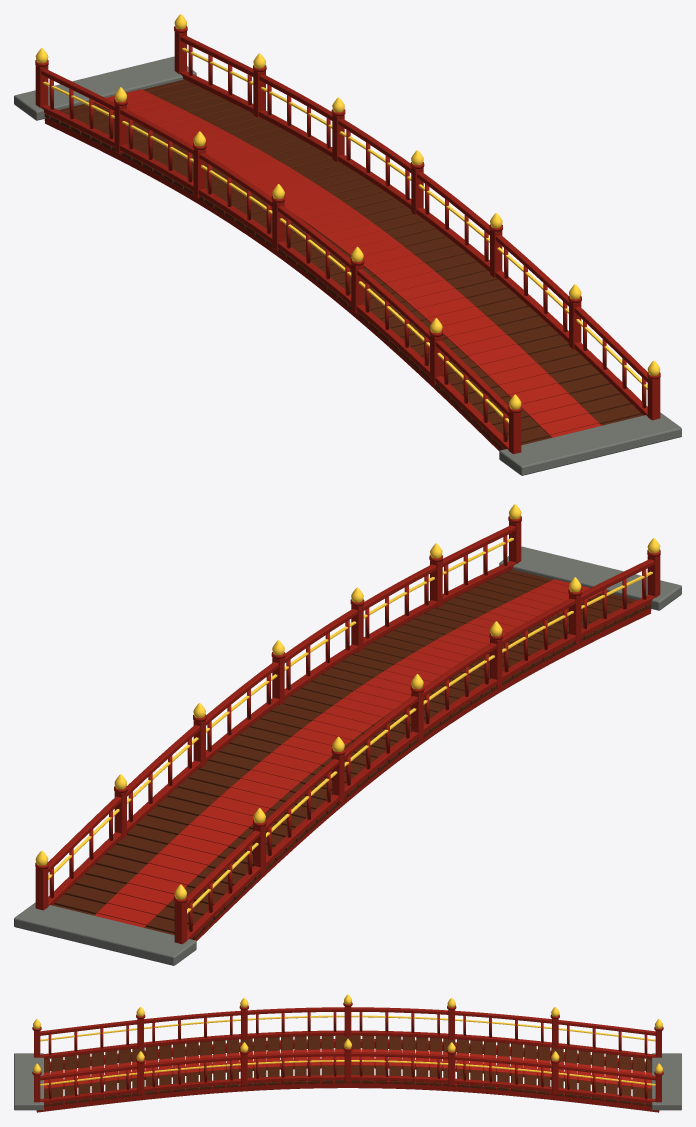
File: cau_kieu.glb
The picture shows the model from 3 angles, top to bottom: view 1: azimuth 30°, elevation 25°; view 2: azimuth 150°, elevation 25°; view 3: azimuth 270°, elevation 25°; orthographic projection. The views are drawn at different scales.
Parts seen in each view (by area): view 1: StoneStep_-1, StoneStep_1, Plank_1, Plank_5, Plank_2, Plank_6, Plank_7, Plank_4, Plank_3, Plank_14, Plank_13, Plank_12 (+11 smaller); view 2: StoneStep_1, StoneStep_-1, Plank_44, Plank_40, Plank_43, Plank_39, Plank_38, Plank_41, Plank_42, Plank_31, Plank_32, Plank_33 (+11 smaller); view 3: StoneStep_1, StoneStep_-1, Plank_21, Plank_24, Plank_3, Plank_42, Plank_9, Plank_13, Plank_32, Plank_36, Plank_5, Plank_11 (+44 smaller).
Part boxes in pixels (x1,y1,x2,y2): StoneStep_-1: (499, 412, 681, 475); StoneStep_1: (14, 56, 196, 120); Plank_1: (492, 404, 641, 449); Plank_5: (451, 364, 600, 409); Plank_2: (482, 394, 631, 439); Plank_6: (441, 354, 590, 399); Plank_7: (435, 345, 579, 390); Plank_4: (461, 374, 610, 419); Plank_3: (472, 384, 620, 429); Plank_14: (359, 279, 507, 324); Plank_13: (369, 288, 518, 333); Plank_12: (379, 297, 528, 342); StoneStep_1: (14, 902, 196, 965); StoneStep_-1: (499, 546, 681, 610); Plank_44: (54, 894, 203, 939); Plank_40: (95, 854, 244, 899); Plank_43: (64, 884, 213, 929); Plank_39: (105, 844, 254, 889); Plank_38: (116, 835, 260, 880); Plank_41: (85, 864, 234, 909); Plank_42: (75, 874, 223, 919); Plank_31: (188, 769, 336, 814); Plank_32: (177, 778, 326, 823); Plank_33: (167, 787, 316, 832); StoneStep_1: (652, 1053, 681, 1110); StoneStep_-1: (14, 1053, 43, 1110); Plank_21: (321, 1036, 333, 1083); Plank_24: (362, 1036, 374, 1083); Plank_3: (78, 1053, 90, 1102); Plank_42: (605, 1053, 617, 1102); Plank_9: (159, 1045, 171, 1093); Plank_13: (213, 1040, 225, 1088); Plank_32: (470, 1040, 482, 1088); Plank_36: (524, 1045, 536, 1093); Plank_5: (105, 1050, 117, 1099); Plank_11: (186, 1042, 198, 1090).
Bounding box in the file's own units: 3.85 × 2.6 × 21.05.
